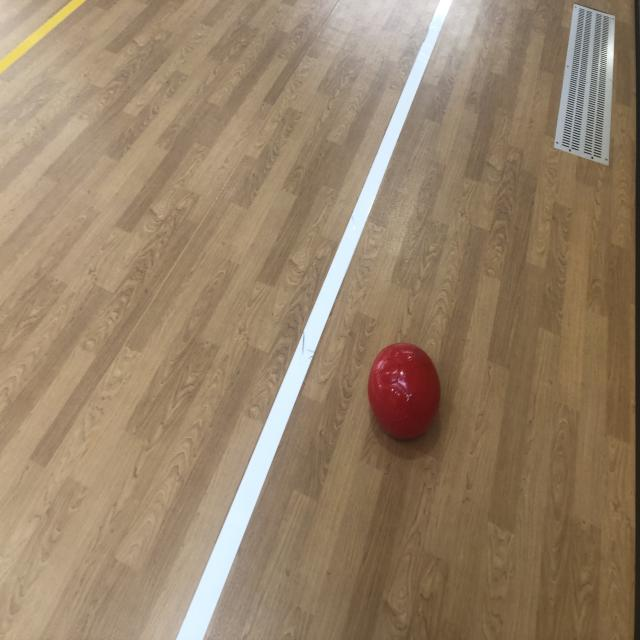red_ball: (368, 343, 442, 444)
